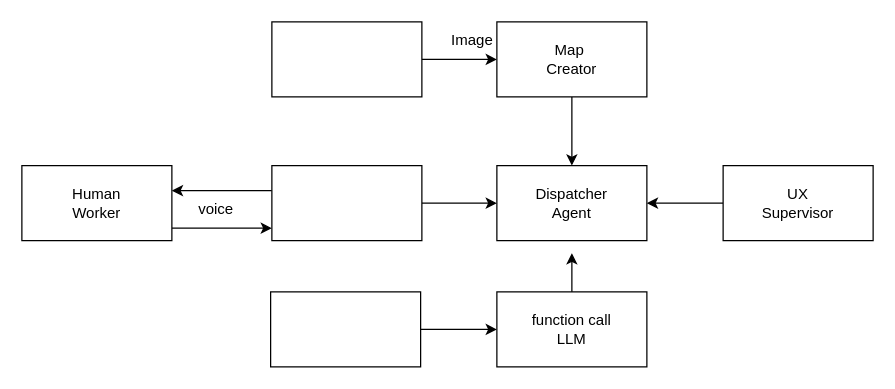
Image size: 895x389. Some labels were removed from this diagram. The shapes that lost their labels are listed below. From the top down, each one's box as (x1, y1, x2, y2) in pixels, then its label:
(271, 21, 422, 97): CCTV/ Drone
(271, 164, 422, 241): Voice Interface
(269, 291, 421, 367): ERP/ Billing
